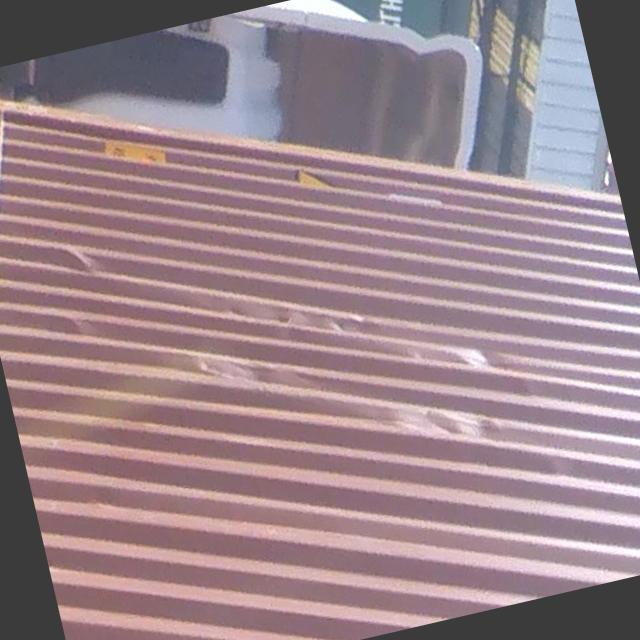dent: (169, 229, 526, 516)
